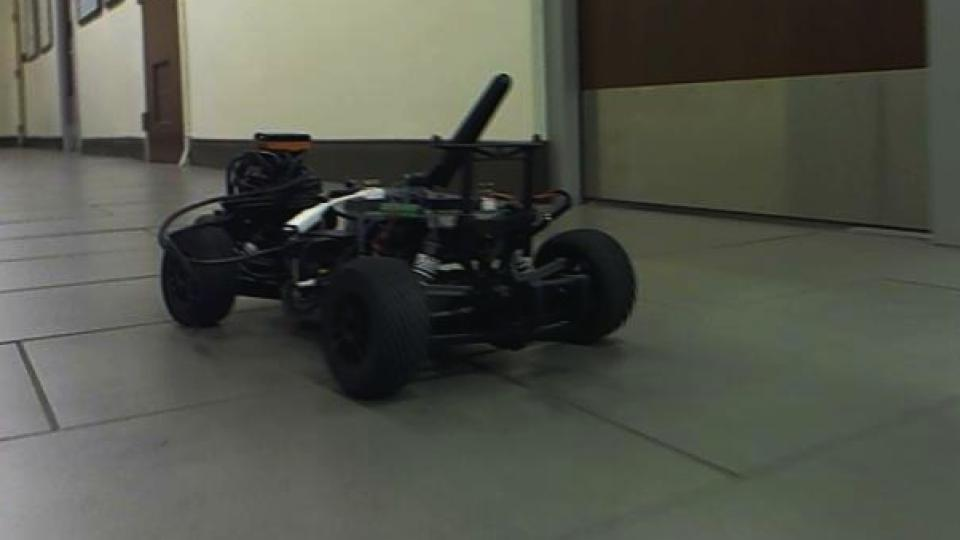car: (153, 70, 640, 403)
